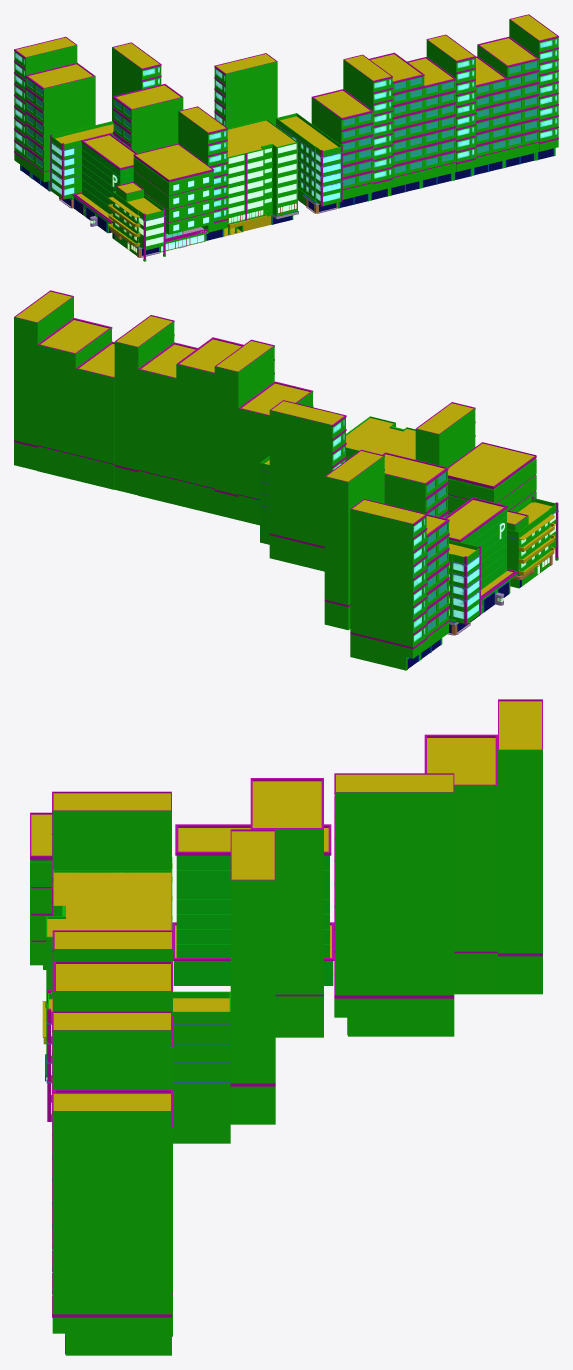
The model's file is Buildings.fbx.
The picture shows the model from 3 angles, top to bottom: view 1: azimuth 30°, elevation 25°; view 2: azimuth 150°, elevation 25°; view 3: azimuth 270°, elevation 25°; orthographic projection. The views are drawn at different scales.
Parts seen in each view (by area): view 1: B5; view 2: B5; view 3: B5.
Boxes of the visible parts, x1,y1,x2,y2 form: B5: (14, 14, 558, 261); B5: (14, 290, 558, 670); B5: (30, 699, 542, 1355).
Size of the model in its own units: 9859 by 2703 by 5142.
